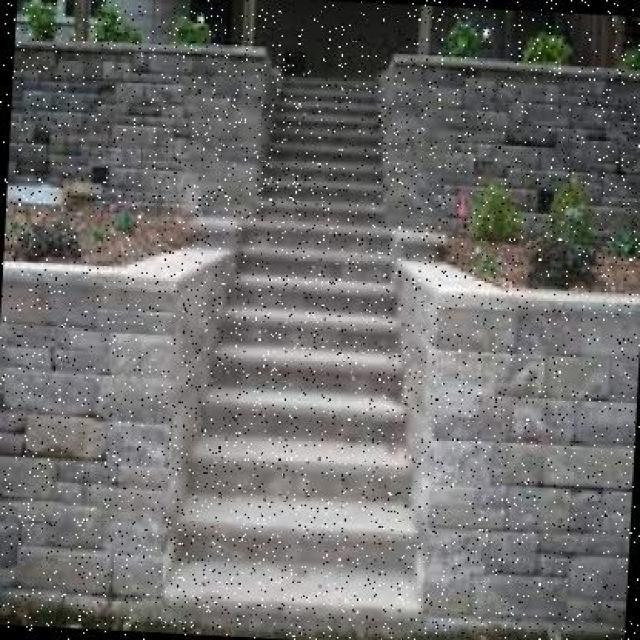Stairs: (238, 48, 430, 604)
